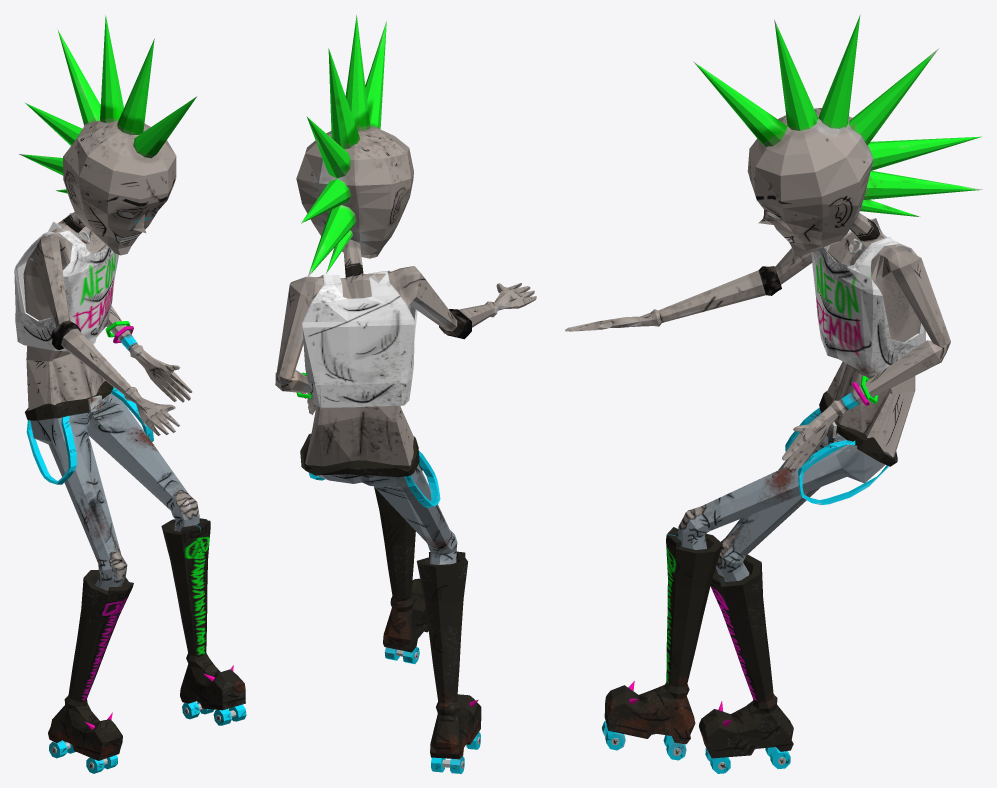
The model's file is punkAnimation_000006.obj.
The picture shows the model from 3 angles, left to right: view 1: azimuth 30°, elevation 25°; view 2: azimuth 150°, elevation 25°; view 3: azimuth 270°, elevation 25°; orthographic projection. The views are drawn at different scales.
Parts seen in each view (by area): view 1: Cube.004_Cube.003; view 2: Cube.004_Cube.003; view 3: Cube.004_Cube.003.
Part boxes in pixels (bbox=[...]): Cube.004_Cube.003: bbox=[14, 15, 246, 773]; Cube.004_Cube.003: bbox=[275, 15, 536, 773]; Cube.004_Cube.003: bbox=[565, 15, 982, 773].
Size of the model in its own units: 1.58 by 7.13 by 3.41.
